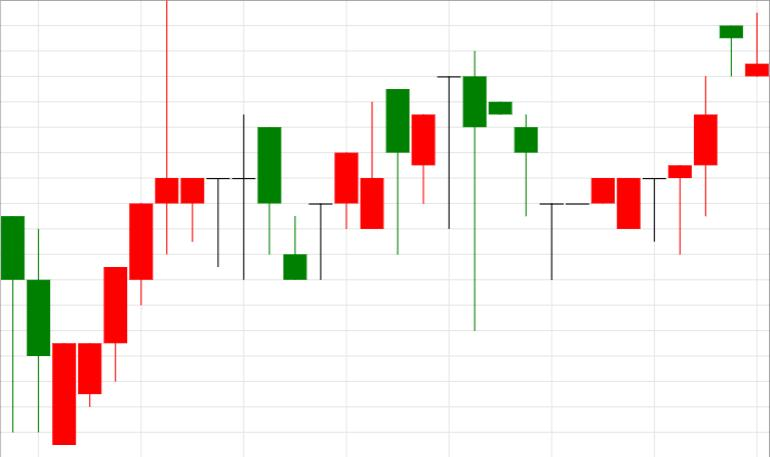three_white_soldiers_rise: (0, 204, 153, 446)
